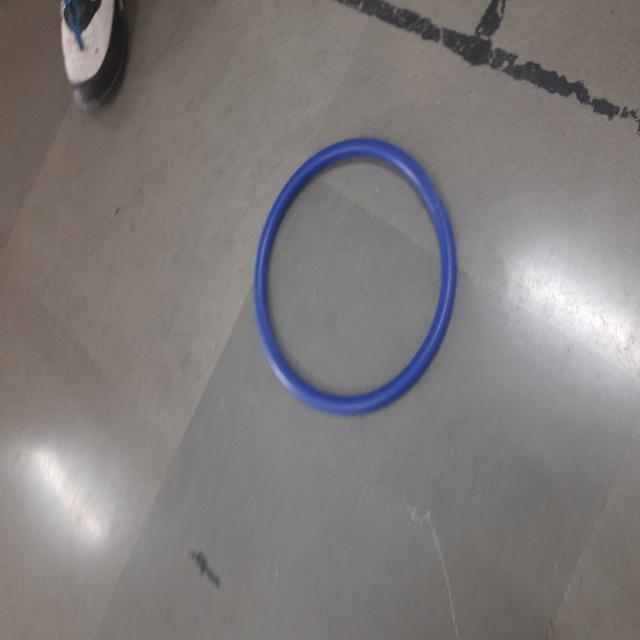daire: (253, 132, 460, 423)
